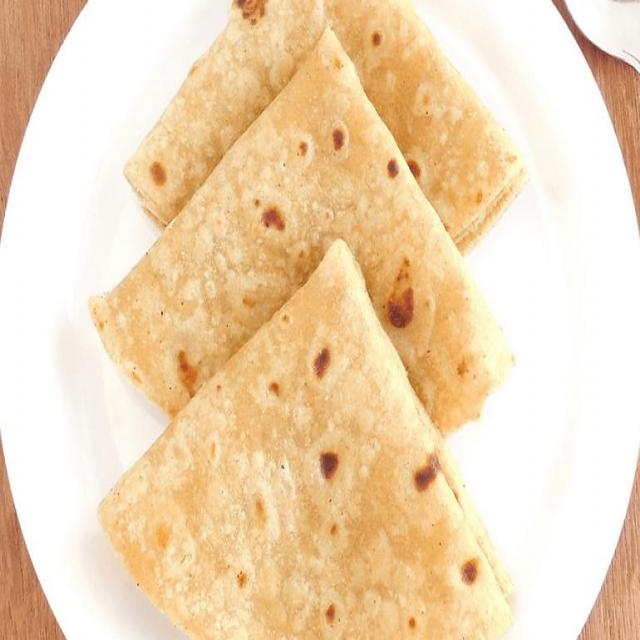roti: (89, 21, 520, 439), (94, 240, 515, 640), (119, 0, 536, 252)
